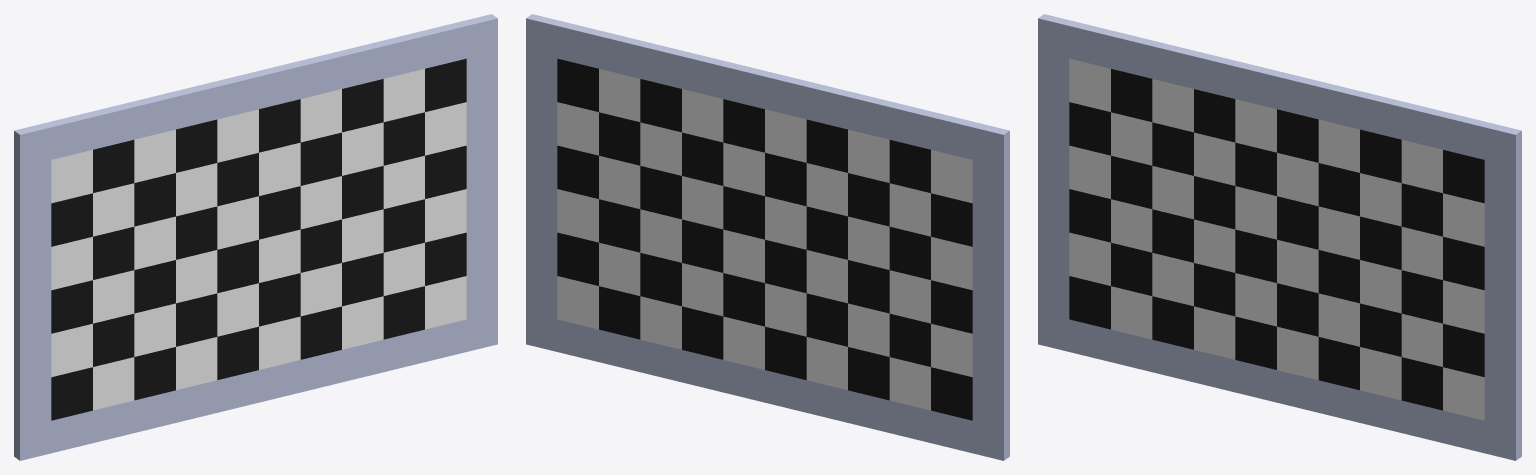
The model's file is Calibracion_obj.obj.
3 renders of one model, left to right at view 1: azimuth 30°, elevation 25°; view 2: azimuth 150°, elevation 25°; view 3: azimuth 330°, elevation 25°, orthographic.
Parts seen in each view (by area): view 1: Root|Calibracion_(Predeterminado)|Predeterminado|Saliente-Extrui; view 2: Root|Calibracion_(Predeterminado)|Predeterminado|Saliente-Extrui; view 3: Root|Calibracion_(Predeterminado)|Predeterminado|Saliente-Extrui.
Part boxes in pixels (bbox=[...]): Root|Calibracion_(Predeterminado)|Predeterminado|Saliente-Extrui: bbox=[14, 14, 497, 460]; Root|Calibracion_(Predeterminado)|Predeterminado|Saliente-Extrui: bbox=[526, 14, 1009, 460]; Root|Calibracion_(Predeterminado)|Predeterminado|Saliente-Extrui: bbox=[1038, 14, 1521, 460].
Bounding box in the file's own units: 2.3 × 1.5 × 0.05.
